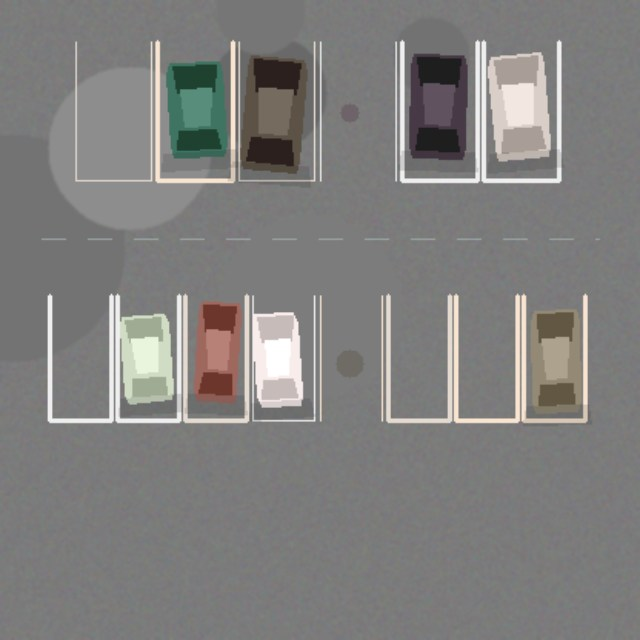space-empty: (75, 42, 151, 180), (320, 42, 395, 180), (49, 295, 111, 420), (320, 295, 382, 420), (455, 295, 517, 420), (388, 295, 449, 420)
space-occupied: (238, 42, 314, 180), (157, 42, 232, 180), (402, 42, 477, 180), (483, 42, 558, 180), (252, 295, 314, 420), (523, 295, 585, 420), (117, 295, 178, 420), (185, 295, 246, 420)
